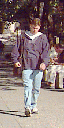person: (13, 15, 53, 114)
